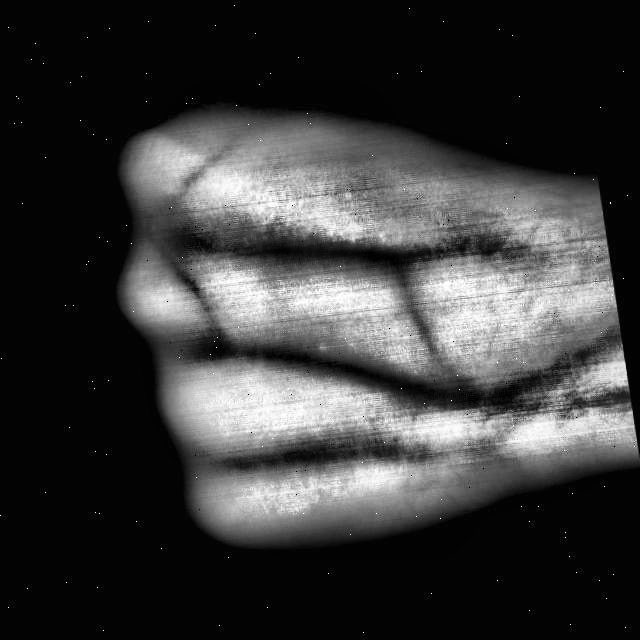Vein: (270, 337, 482, 414)
